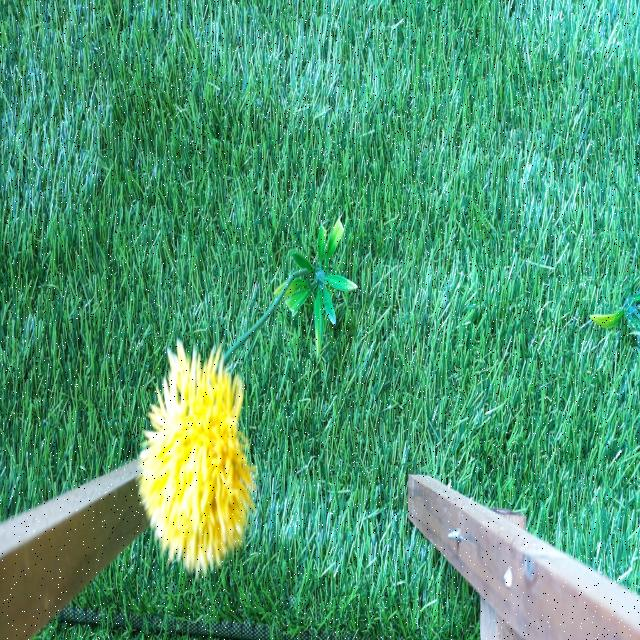base: (275, 218, 357, 358), (590, 278, 638, 336)
flower: (138, 346, 252, 566)
